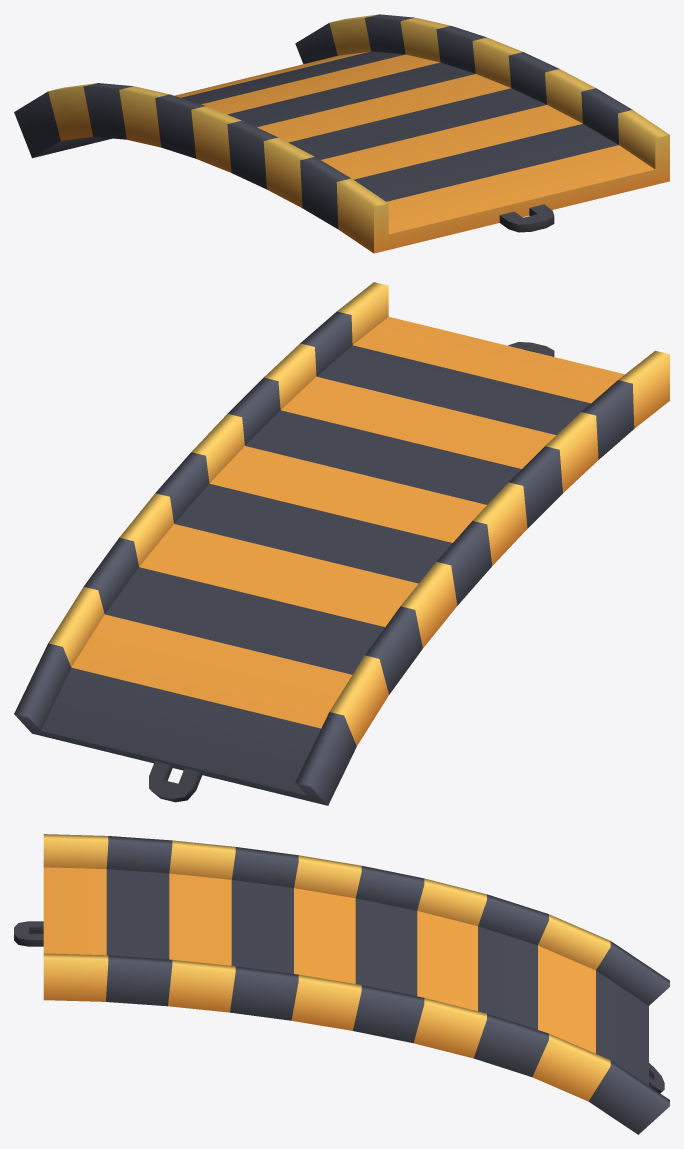
File: track-striped-wide-straight-hill-end.fbx
3 renders of one model, top to bottom at view 1: azimuth 30°, elevation 25°; view 2: azimuth 150°, elevation 25°; view 3: azimuth 270°, elevation 25°, orthographic. The views are drawn at different scales.
Parts seen in each view (by area): view 1: track-striped-wide-straight-hill-end; view 2: track-striped-wide-straight-hill-end; view 3: track-striped-wide-straight-hill-end.
Boxes of the visible parts, bbox=[...] form: track-striped-wide-straight-hill-end: bbox=[14, 14, 669, 253]; track-striped-wide-straight-hill-end: bbox=[14, 282, 669, 805]; track-striped-wide-straight-hill-end: bbox=[14, 834, 669, 1134].
Bounding box in the file's own units: 200 × 144 × 441.
